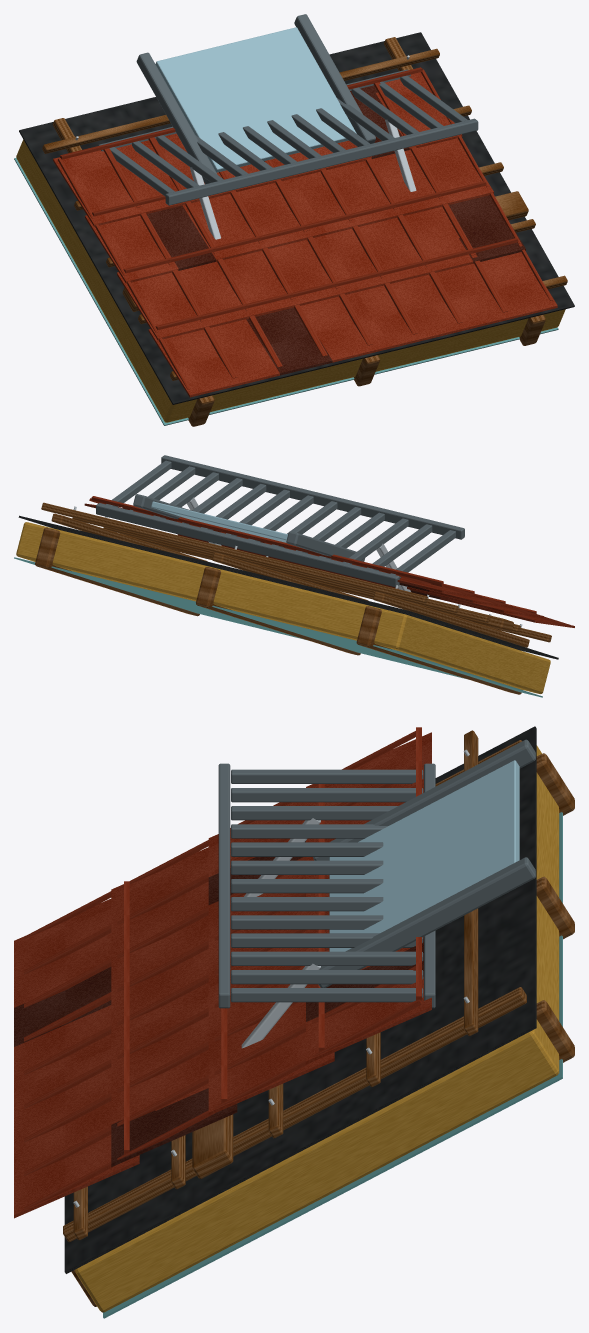
The model's file is modell.glb.
3 renders of one model, top to bottom at view 1: azimuth 30°, elevation 25°; view 2: azimuth 150°, elevation 25°; view 3: azimuth 270°, elevation 25°, orthographic. The views are drawn at different scales.
Visible parts, largest first — view 1: a03-deckziegel_deckung, a03-ausstieg_, a03-zusatzebene_zusatzebene, a03-tritt_, a03-daemmung_daemmung, a03-deckziegel_deckung.001, a03-lattung_lattung, a03-ausstieg_.001, a03-luftdichtheit_luftdichtheit, a03-sparren_tragwerk, a03-halter_, a03-befestigungsuntergrund_lattung; view 2: a03-daemmung_daemmung, a03-tritt_, a03-lattung_lattung, a03-deckziegel_deckung, a03-sparren_tragwerk, a03-luftdichtheit_luftdichtheit, a03-zusatzebene_zusatzebene, a03-ausstieg_.001, a03-ausstieg_, a03-befestigungsuntergrund_lattung, a03-halter_; view 3: a03-deckziegel_deckung, a03-tritt_, a03-zusatzebene_zusatzebene, a03-daemmung_daemmung, a03-ausstieg_, a03-lattung_lattung, a03-deckziegel_deckung.001, a03-ausstieg_.001, a03-luftdichtheit_luftdichtheit, a03-sparren_tragwerk, a03-befestigungsuntergrund_lattung, a03-halter_.
Boxes of the visible parts, left/top/right/bottom form: a03-deckziegel_deckung: left=53, top=67, right=557, bottom=397; a03-ausstieg_: left=155, top=27, right=356, bottom=172; a03-zusatzebene_zusatzebene: left=19, top=32, right=574, bottom=404; a03-tritt_: left=98, top=69, right=478, bottom=205; a03-daemmung_daemmung: left=16, top=139, right=565, bottom=422; a03-deckziegel_deckung.001: left=146, top=85, right=525, bottom=375; a03-lattung_lattung: left=42, top=37, right=567, bottom=380; a03-ausstieg_.001: left=136, top=14, right=375, bottom=184; a03-luftdichtheit_luftdichtheit: left=14, top=157, right=558, bottom=425; a03-sparren_tragwerk: left=188, top=314, right=545, bottom=426; a03-halter_: left=190, top=119, right=416, bottom=239; a03-befestigungsuntergrund_lattung: left=122, top=191, right=528, bottom=311; a03-daemmung_daemmung: left=16, top=522, right=550, bottom=693; a03-tritt_: left=96, top=455, right=464, bottom=587; a03-lattung_lattung: left=41, top=502, right=551, bottom=647; a03-deckziegel_deckung: left=84, top=496, right=574, bottom=627; a03-sparren_tragwerk: left=35, top=527, right=521, bottom=694; a03-luftdichtheit_luftdichtheit: left=14, top=557, right=542, bottom=697; a03-zusatzebene_zusatzebene: left=18, top=515, right=558, bottom=659; a03-ausstieg_.001: left=133, top=494, right=364, bottom=561; a03-ausstieg_: left=151, top=501, right=287, bottom=542; a03-befestigungsuntergrund_lattung: left=120, top=533, right=513, bottom=631; a03-halter_: left=186, top=497, right=410, bottom=591; a03-deckziegel_deckung: left=14, top=727, right=431, bottom=1218; a03-tritt_: left=218, top=763, right=435, bottom=1008; a03-zusatzebene_zusatzebene: left=64, top=726, right=536, bottom=1273; a03-daemmung_daemmung: left=75, top=745, right=559, bottom=1312; a03-ausstieg_: left=329, top=760, right=519, bottom=951; a03-lattung_lattung: left=63, top=730, right=526, bottom=1242; a03-deckziegel_deckung.001: left=14, top=841, right=423, bottom=1166; a03-ausstieg_.001: left=313, top=739, right=535, bottom=987; a03-luftdichtheit_luftdichtheit: left=103, top=812, right=562, bottom=1318; a03-sparren_tragwerk: left=71, top=753, right=574, bottom=1306; a03-befestigungsuntergrund_lattung: left=192, top=1114, right=233, bottom=1179; a03-halter_: left=241, top=818, right=320, bottom=1048.
Size of the model in its own units: 2.14 by 1.26 by 1.69.
Materials: 9 (5 with a texture image).
